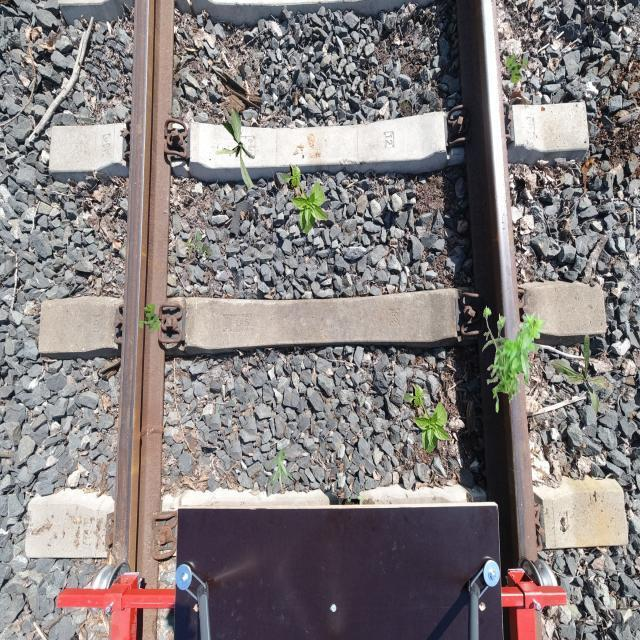Plant: (482, 305, 546, 412), (551, 334, 615, 418), (281, 163, 329, 234), (404, 383, 452, 454), (215, 107, 255, 190), (266, 449, 292, 491), (185, 231, 212, 262), (504, 53, 528, 84), (138, 303, 162, 334)
